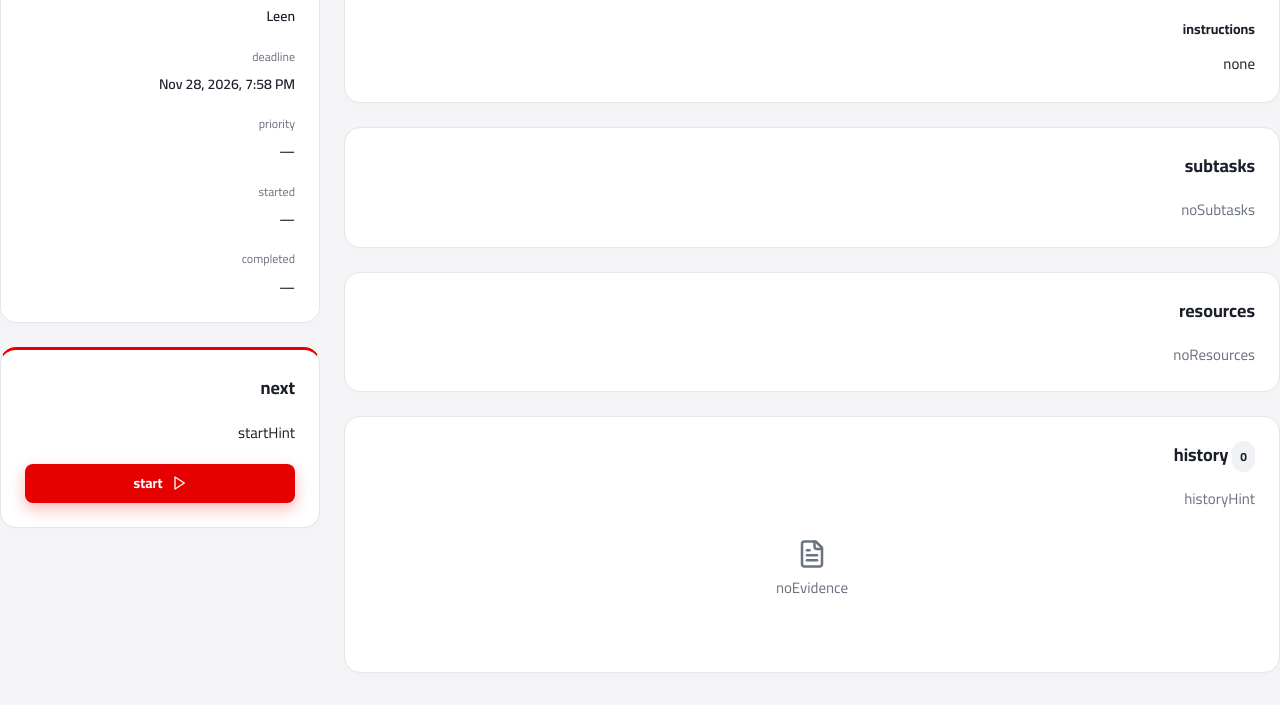
trainee task workspace › starts an assigned task and reloads the authoritative actions
(page scrolled)
Click the button "start" at x=160, y=483, box [25,464,295,503]
(page scrolled)
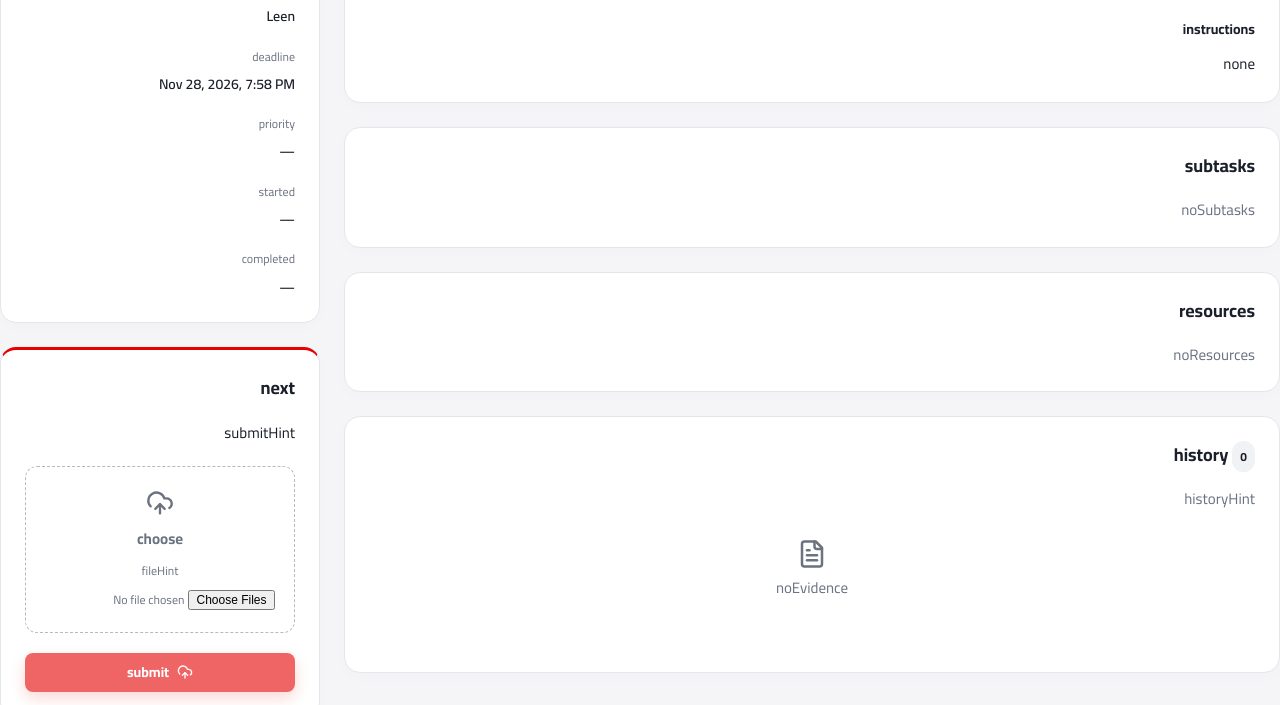
Check: the button "submit" is shown, box [25,653,295,692]
